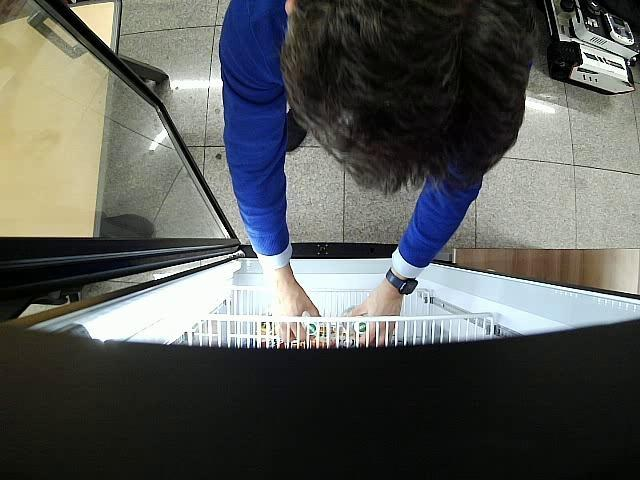18_trevi: (342, 307, 367, 334), (302, 311, 318, 335)
